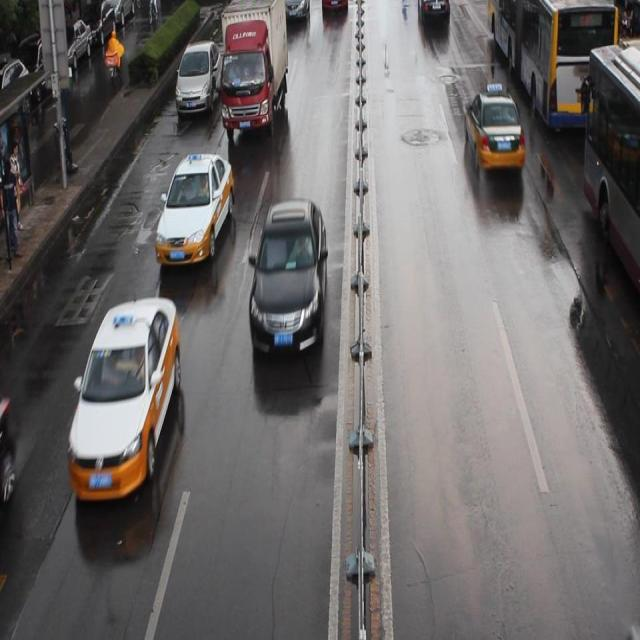bus: (220, 1, 289, 128)
car: (66, 295, 181, 500), (248, 198, 326, 358), (155, 150, 235, 268), (463, 89, 526, 173), (175, 38, 223, 116), (219, 1, 272, 24), (416, 1, 448, 20), (279, 1, 310, 19), (321, 1, 348, 12)
van: (485, 1, 616, 130), (580, 38, 640, 296)
